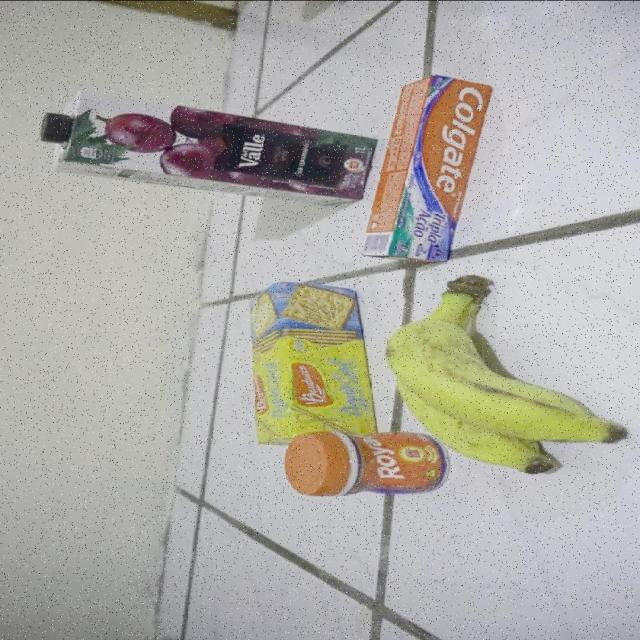Banana: (372, 270, 616, 432)
Cracker: (253, 280, 365, 433)
Toothpaste: (358, 70, 500, 258)
Yeast: (280, 431, 443, 497)
